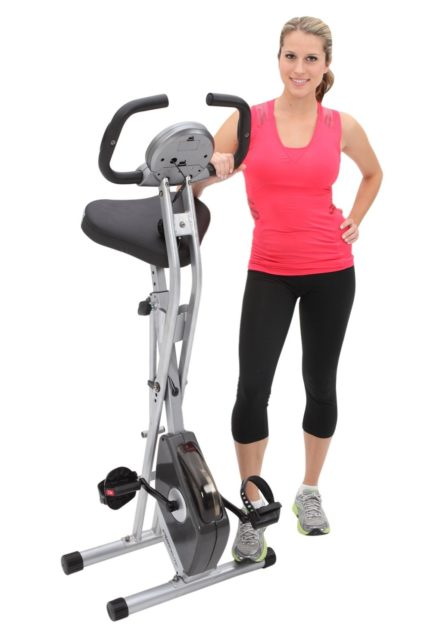gym_bike: (44, 94, 285, 628)
